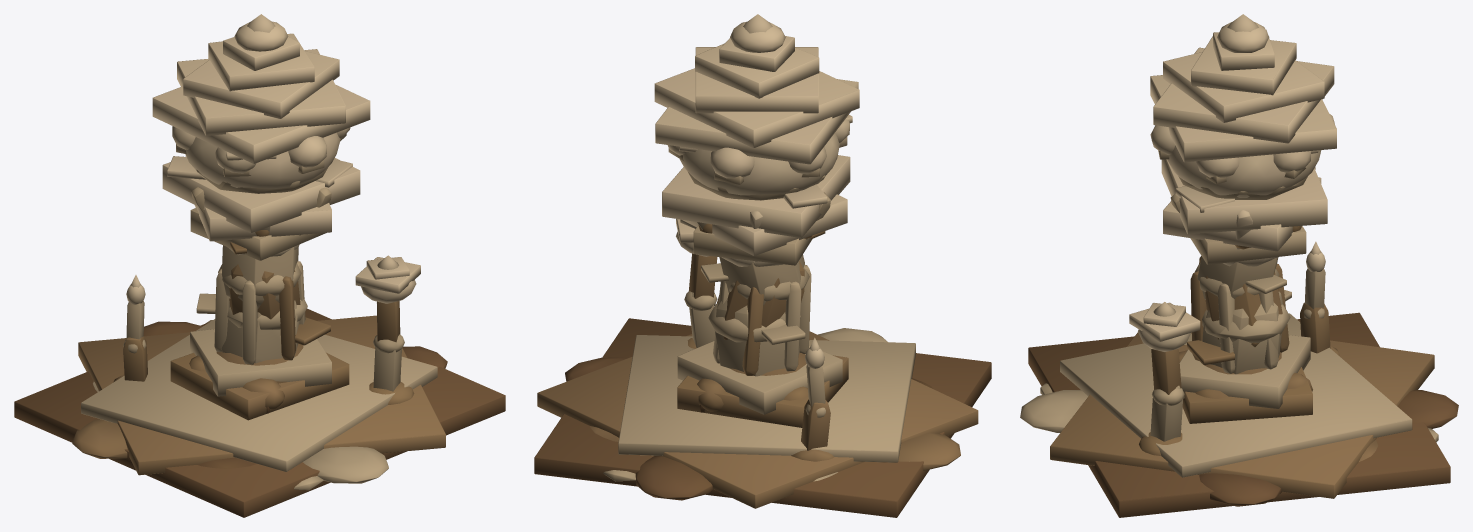
File: desert_monolith.glb
The picture shows the model from 3 angles, left to right: view 1: azimuth 30°, elevation 25°; view 2: azimuth 150°, elevation 25°; view 3: azimuth 270°, elevation 25°; orthographic projection. The views are drawn at different scales.
Visible parts, largest first — view 1: desert_monolith; view 2: desert_monolith; view 3: desert_monolith.
Boxes of the visible parts, x1,y1,x2,y2 form: desert_monolith: (14, 14, 505, 517); desert_monolith: (534, 14, 991, 517); desert_monolith: (1020, 14, 1458, 517).
Bounding box in the file's own units: 15.7 × 15.93 × 15.39.
